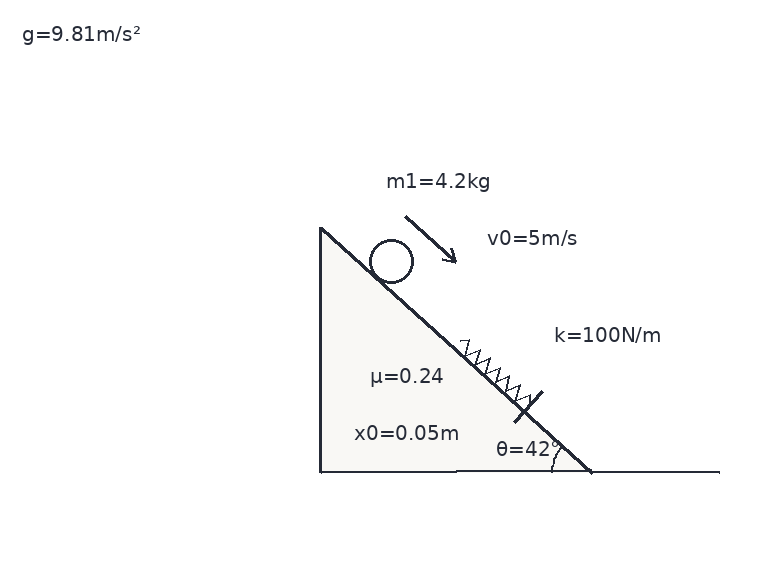ball: (367, 237, 415, 285)
ramp: (319, 226, 594, 474)
spring: (458, 338, 532, 406)
